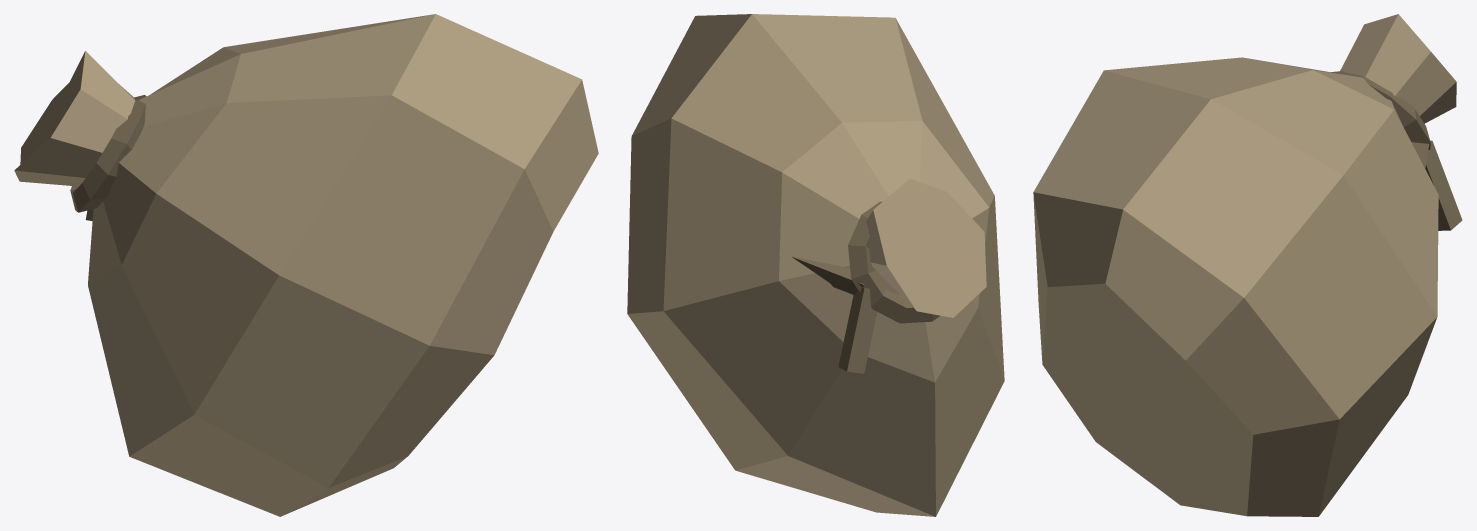
The model's file is side_treasure_hollow_special.fbx.
3 views of the same model, side by side, from view 1: azimuth 30°, elevation 25°; view 2: azimuth 150°, elevation 25°; view 3: azimuth 270°, elevation 25° (orthographic). The views are drawn at different scales.
Parts seen in each view (by area): view 1: chunk_side_treasure_hollow__landmark_chest_loot; view 2: chunk_side_treasure_hollow__landmark_chest_loot; view 3: chunk_side_treasure_hollow__landmark_chest_loot.
Boxes of the visible parts, bbox=[...] form: chunk_side_treasure_hollow__landmark_chest_loot: bbox=[14, 14, 598, 516]; chunk_side_treasure_hollow__landmark_chest_loot: bbox=[627, 14, 1004, 516]; chunk_side_treasure_hollow__landmark_chest_loot: bbox=[1033, 14, 1462, 516].
Size of the model in its own units: 2.4 by 2.42 by 1.95.
